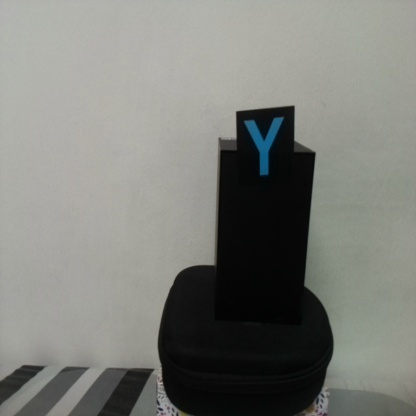id_14: (236, 111, 295, 188)
